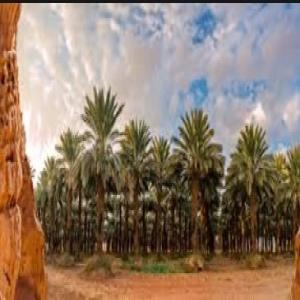palm tree: (71, 82, 124, 256), (169, 107, 223, 255), (226, 122, 271, 252), (118, 117, 152, 252), (54, 126, 83, 254), (148, 134, 173, 254)
